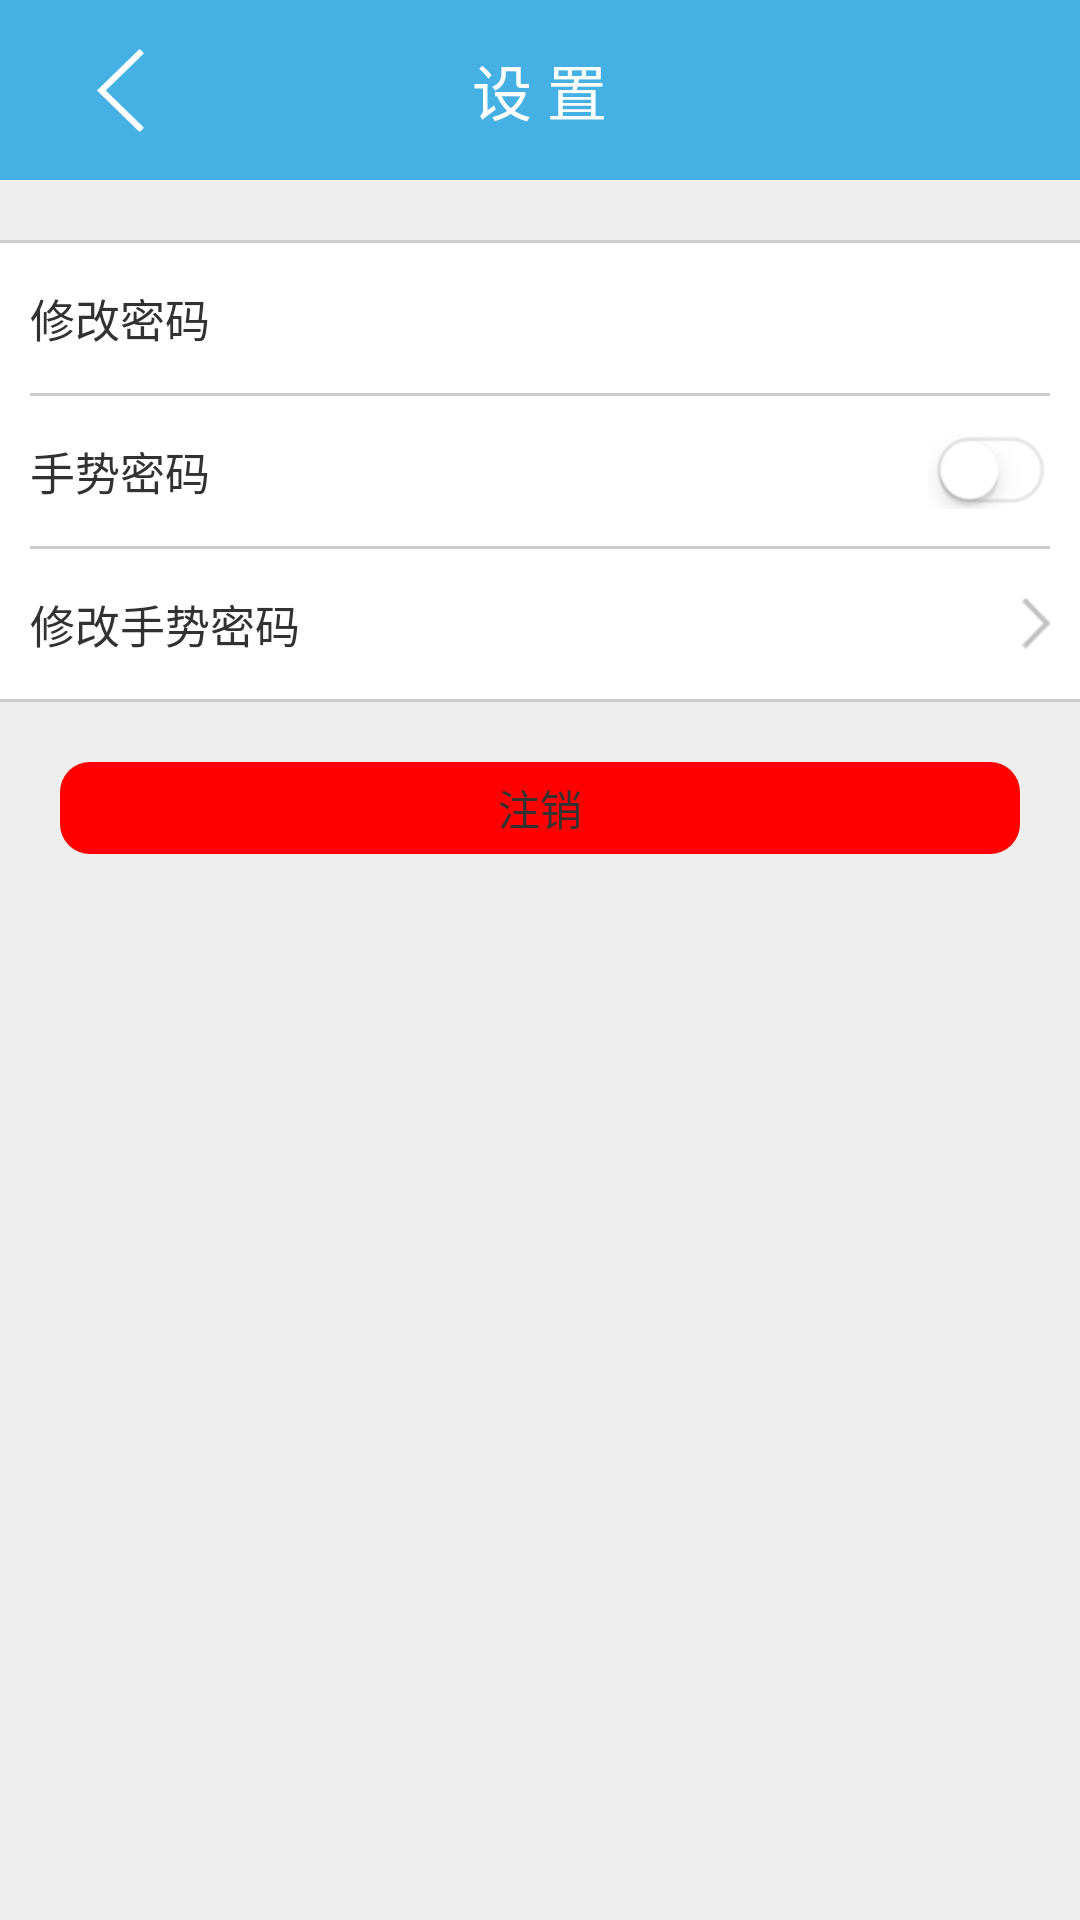

Icons on this 1080px×1920px Android screen, each with the point to tap as point (x, y):
back: point (120, 90)
more: point (1036, 623)
slide off: point (989, 472)
